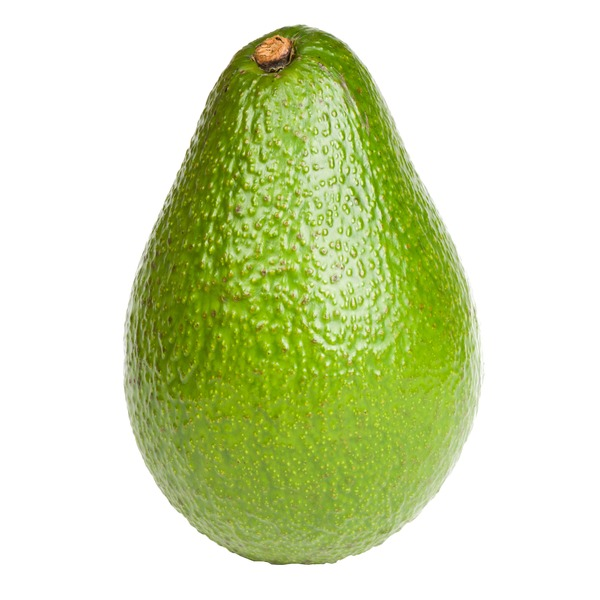abacate: (124, 24, 484, 562)
